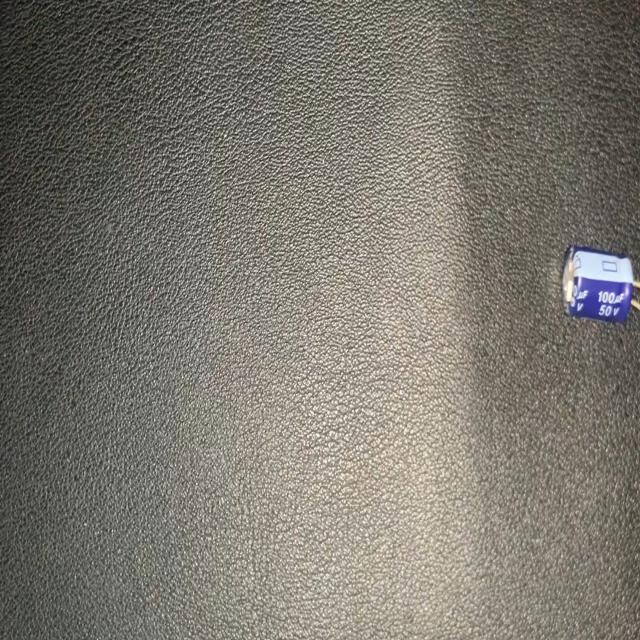capacitor: (558, 236, 640, 327)
